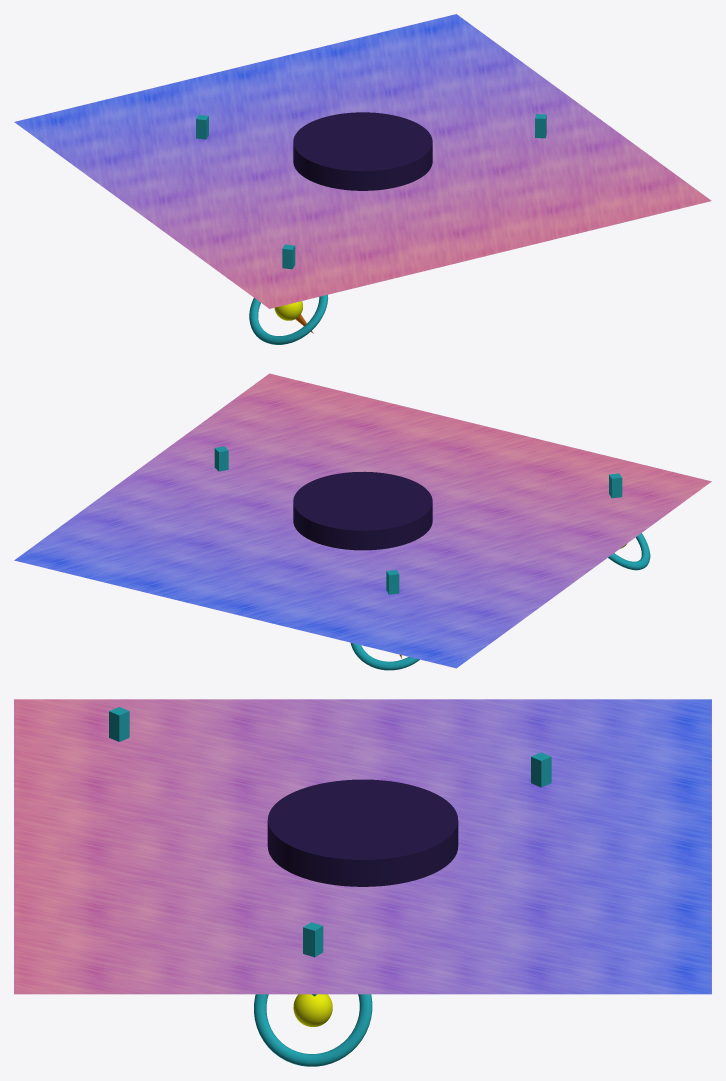
The picture shows the model from 3 angles, top to bottom: view 1: azimuth 30°, elevation 25°; view 2: azimuth 150°, elevation 25°; view 3: azimuth 270°, elevation 25°; orthographic projection. The views are drawn at different scales.
Parts seen in each view (by area): view 1: Plane, Cylinder, Torus.001_Torus; view 2: Plane, Cylinder, Torus, Torus.001_Torus; view 3: Plane, Cylinder, Torus.002_Torus, Sphere.002_Sphere, Cube.002_Cube.003, Cube_Cube.003, Cube.001_Cube.003.
Boxes of the visible parts, left/top/right/bottom form: Plane: left=14, top=14, right=711, bottom=308; Cylinder: left=293, top=112, right=432, bottom=190; Torus.001_Torus: left=249, top=295, right=328, bottom=344; Plane: left=14, top=373, right=711, bottom=668; Cylinder: left=293, top=471, right=432, bottom=550; Torus: left=350, top=643, right=419, bottom=670; Torus.001_Torus: left=608, top=533, right=650, bottom=570; Plane: left=14, top=699, right=711, bottom=994; Cylinder: left=267, top=779, right=458, bottom=886; Torus.002_Torus: left=254, top=994, right=372, bottom=1066; Sphere.002_Sphere: left=293, top=994, right=332, bottom=1026; Cube.002_Cube.003: left=303, top=922, right=323, bottom=996; Cube_Cube.003: left=531, top=752, right=551, bottom=787; Cube.001_Cube.003: left=109, top=707, right=129, bottom=741.
Bounding box in the file's own units: 10 × 2.42 × 10.
6 materials, 2 textured.
